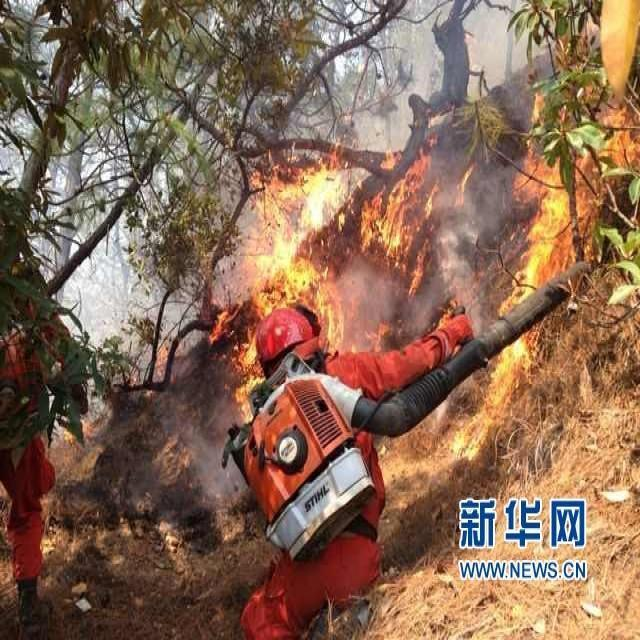Fire: (454, 84, 640, 462), (204, 134, 441, 426)
Smoke: (1, 2, 553, 506)
